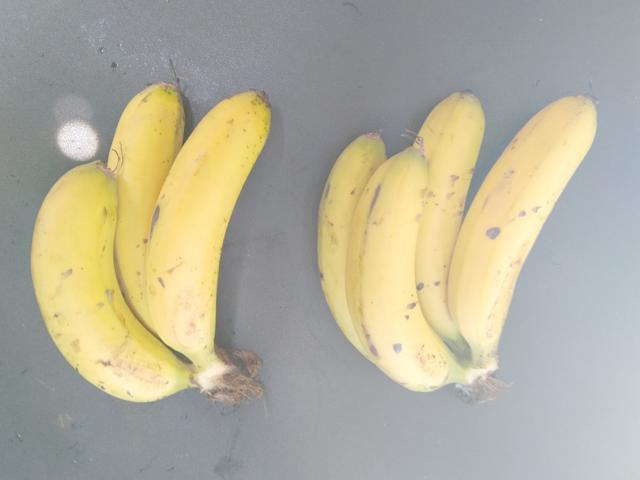ripe: (427, 96, 602, 357), (148, 85, 282, 349), (32, 178, 160, 407), (347, 150, 441, 371)
